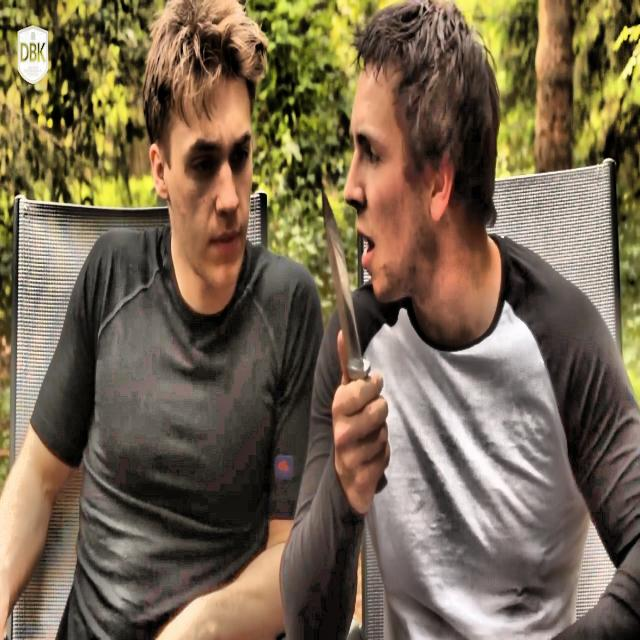knife: (322, 189, 388, 492)
